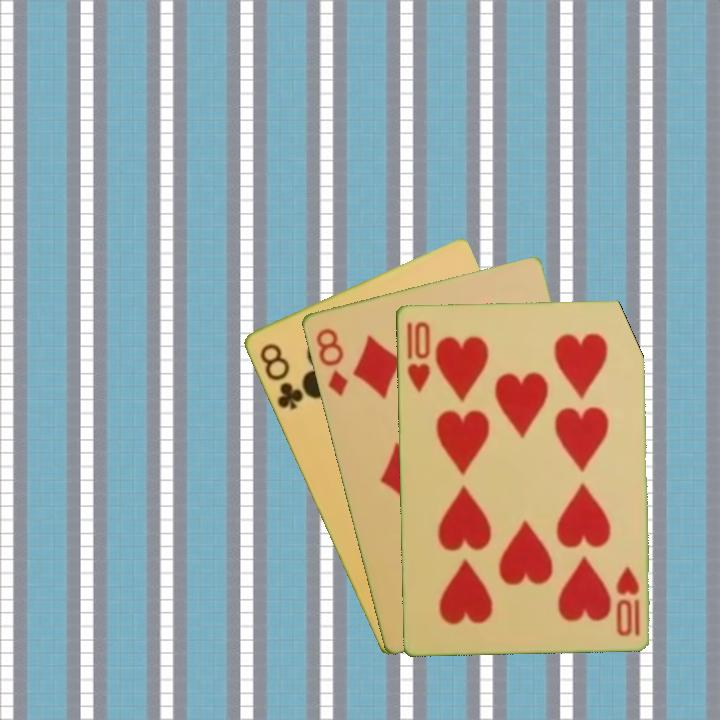10h: (612, 562, 642, 639), (403, 318, 433, 394)
8c: (255, 339, 306, 413)
8d: (312, 324, 350, 399)
